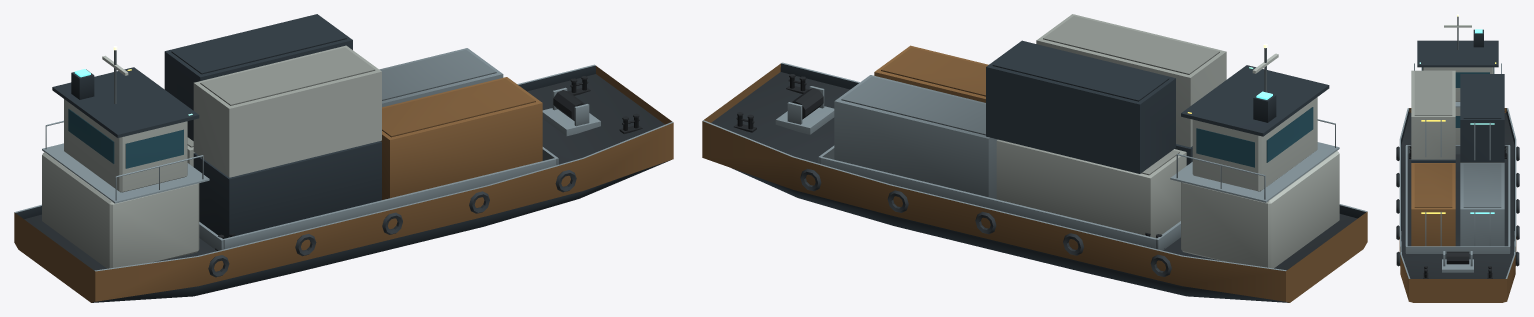
The model's file is harbour-barge.lod1.glb.
The picture shows the model from 3 angles, left to right: view 1: azimuth 30°, elevation 25°; view 2: azimuth 150°, elevation 25°; view 3: azimuth 270°, elevation 25°; orthographic projection. The views are drawn at different scales.
Parts seen in each view (by area): view 1: structure; view 2: structure; view 3: structure.
Part boxes in pixels (bbox=[...]): structure: bbox=[14, 14, 673, 302]; structure: bbox=[702, 14, 1367, 302]; structure: bbox=[1396, 14, 1519, 302].
Bounding box in the file's own units: 22 × 8.29 × 6.53.
